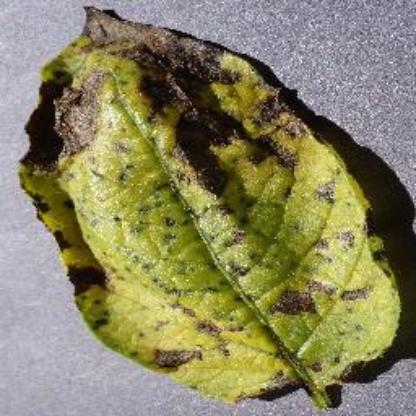Early-Blight: (17, 5, 407, 410)
